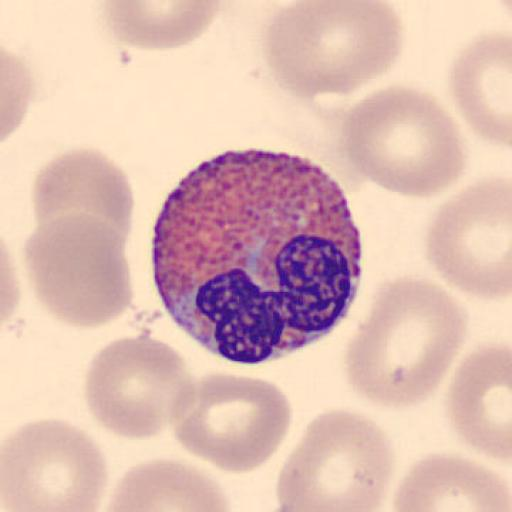RBC: (346, 274, 469, 410), (340, 82, 468, 199), (261, 0, 405, 97), (22, 211, 134, 329), (170, 369, 294, 474), (274, 406, 396, 512), (83, 334, 196, 442), (422, 176, 512, 300), (32, 146, 136, 252), (1, 416, 111, 512), (443, 343, 512, 460), (448, 28, 512, 147), (100, 455, 233, 512), (389, 450, 511, 512), (98, 0, 228, 51), (1, 46, 33, 143), (0, 234, 21, 333)
WBC: (147, 154, 366, 366)
